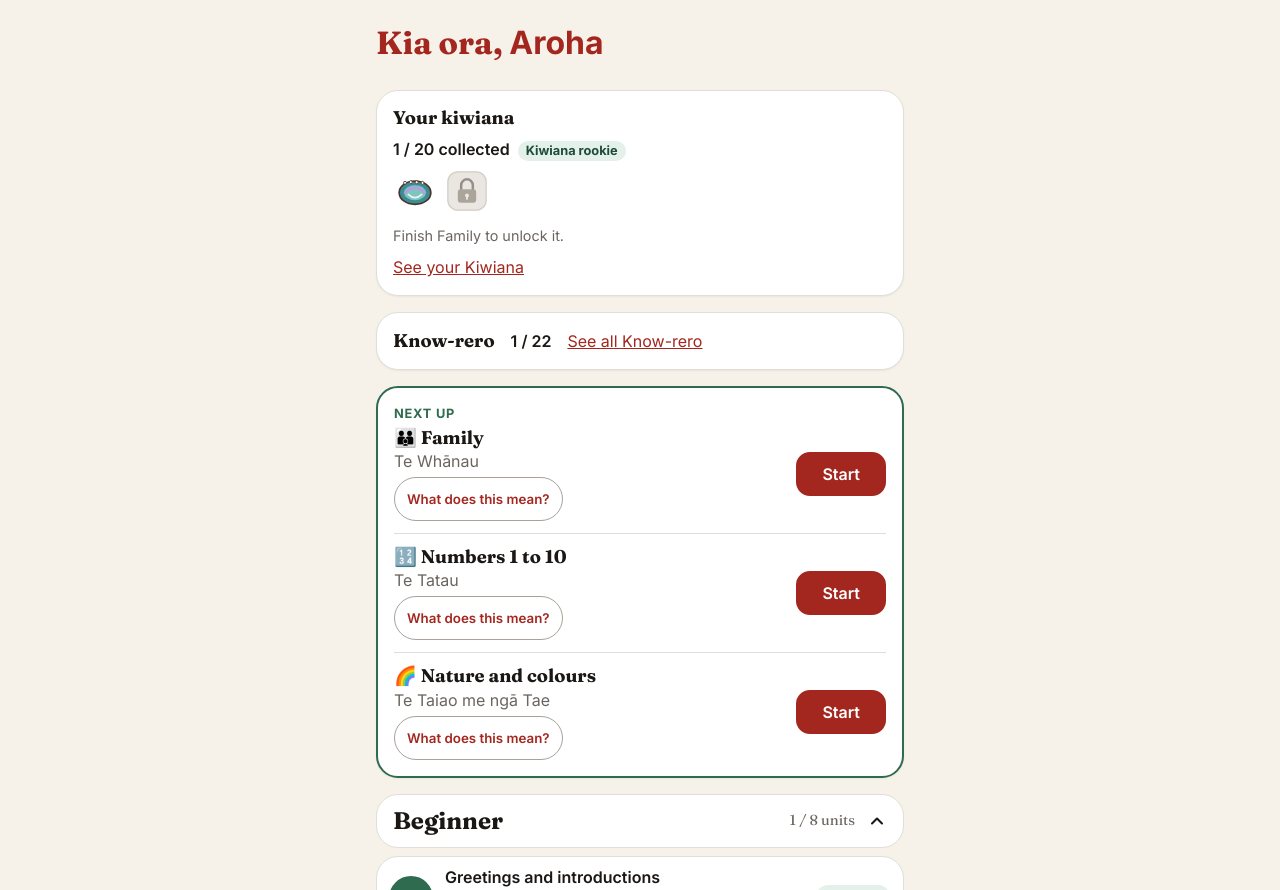
Scenario: Kiwiana on the Path › opens the story from a collected icon on the Home card
Click the button named "Read about Pāua": coordinates (415, 192) [393,170,437,214]
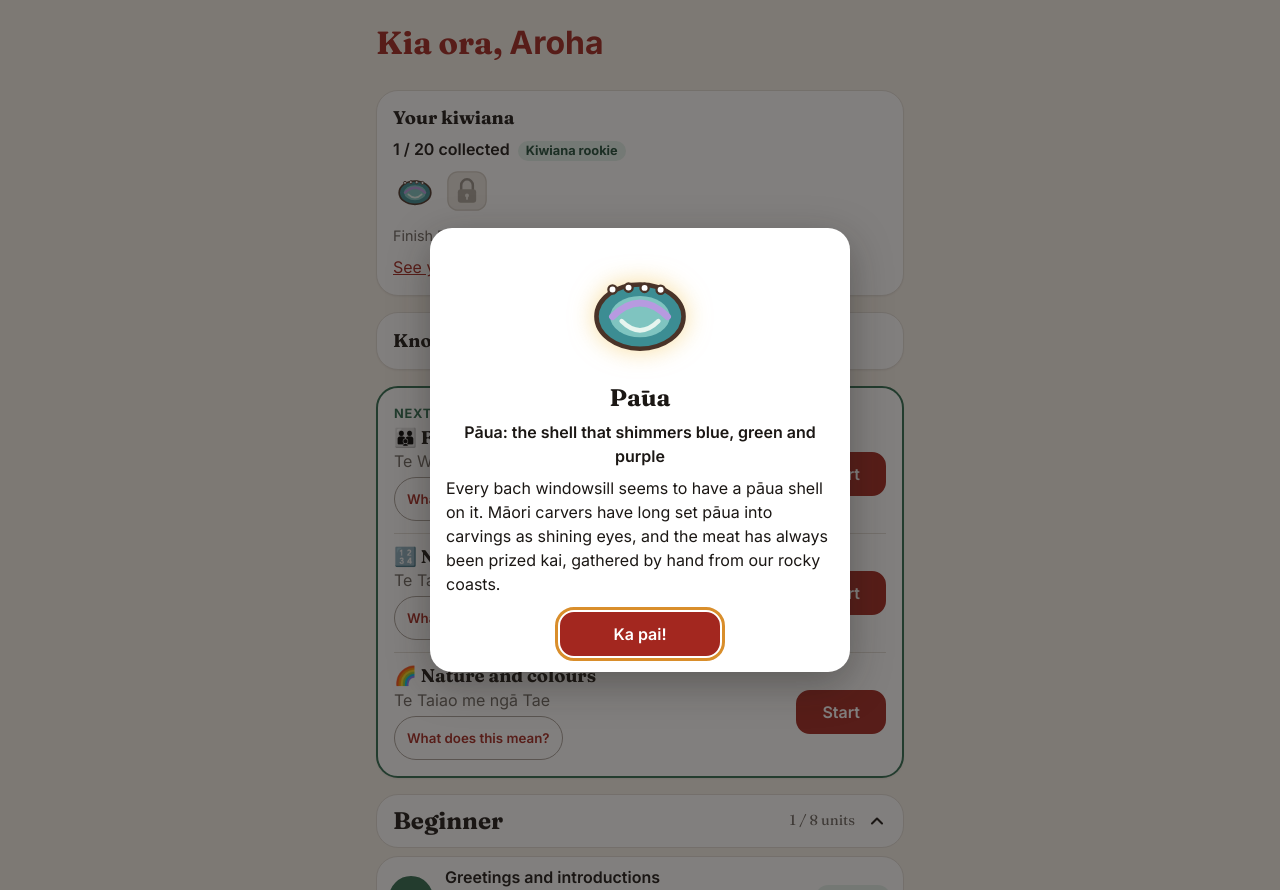
Result: the heading "Pāua" is shown at [610,383,670,412]
